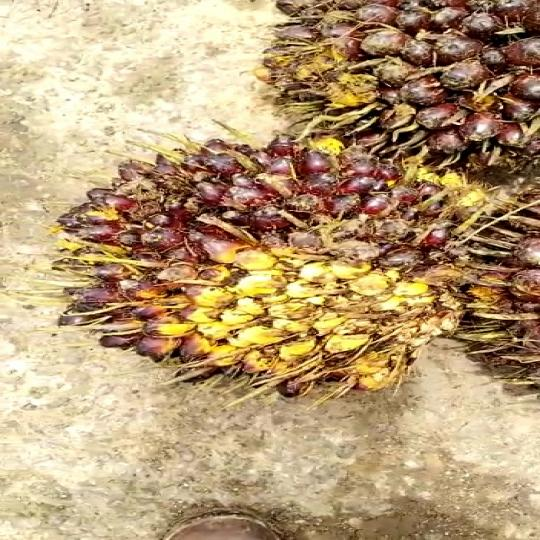kurang masak: (41, 131, 477, 404), (231, 0, 540, 173)
